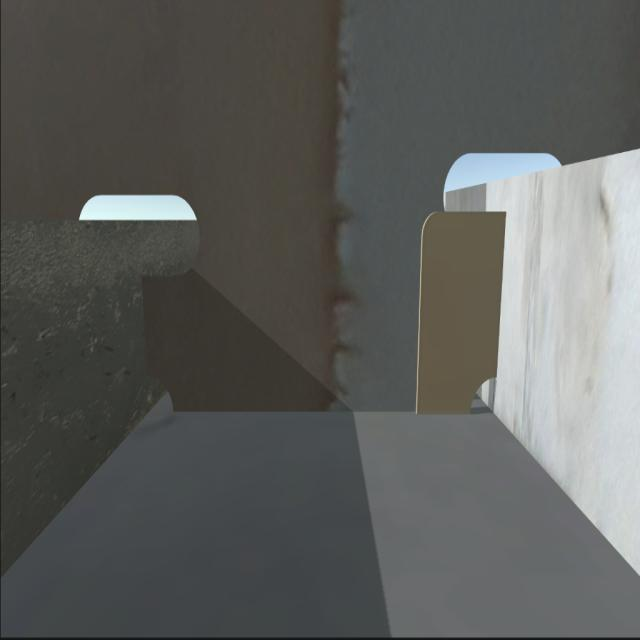fillet_hole: (458, 368, 499, 416), (141, 369, 174, 414)
fillet_yong_jeop_jang: (170, 403, 469, 422)
longi_yong_jeop_jang: (488, 206, 513, 384), (139, 276, 155, 376)
plate_CP05: (411, 203, 501, 409)
